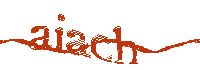a: (66, 28, 88, 57), (30, 24, 49, 53)
c: (90, 32, 113, 65)
h: (112, 24, 138, 65)
i: (53, 12, 66, 53)
